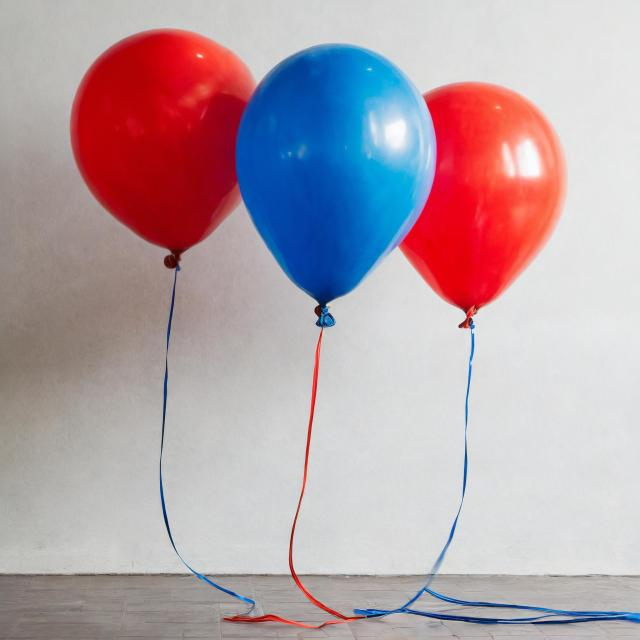blue: (236, 42, 437, 330)
red: (72, 30, 258, 282), (401, 83, 566, 330)
